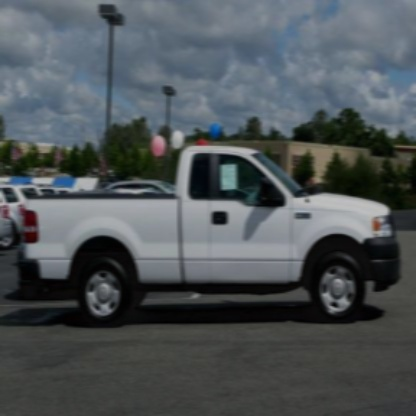Vehicle: (20, 144, 402, 328)
